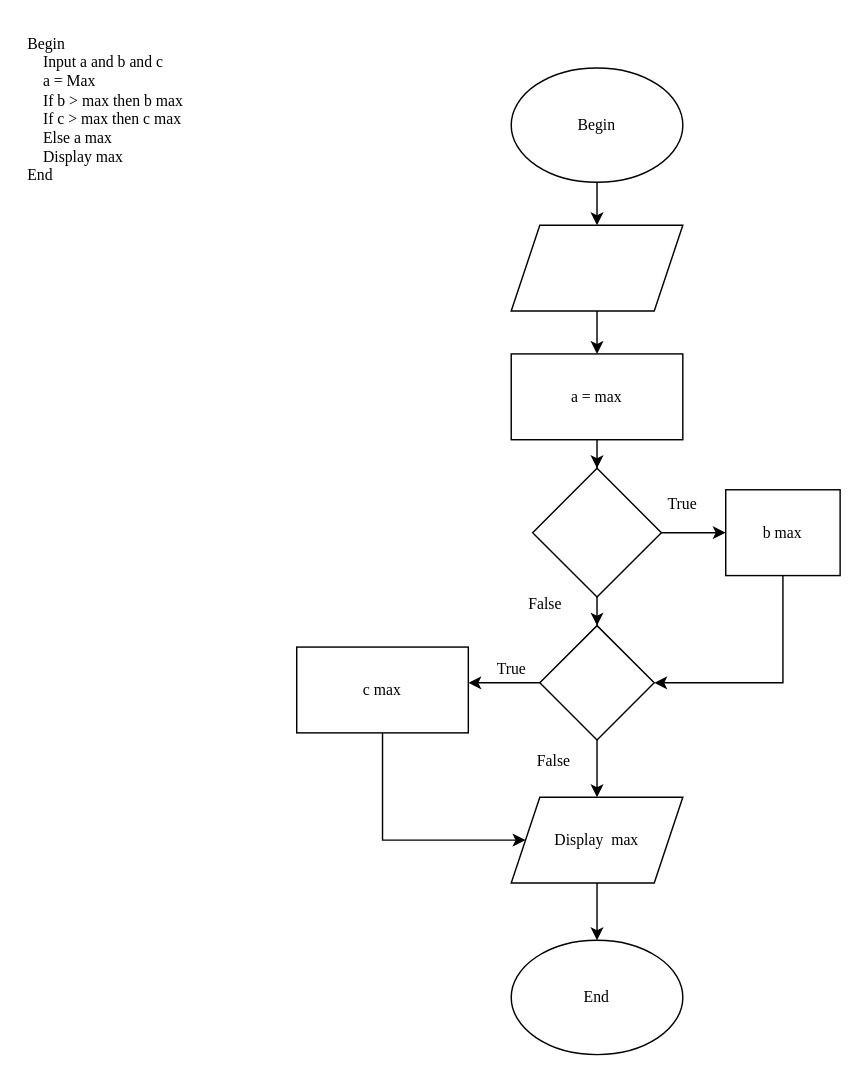
Some shapes in this 865 by 1080 pixel diagram are drawn without their labels. Here are the shapes that lost their labels. From the top down, the centre of each, then its label:
At point (596, 267): "a and b and c".
At point (596, 532): "b > max".
At point (596, 682): "c > max".
